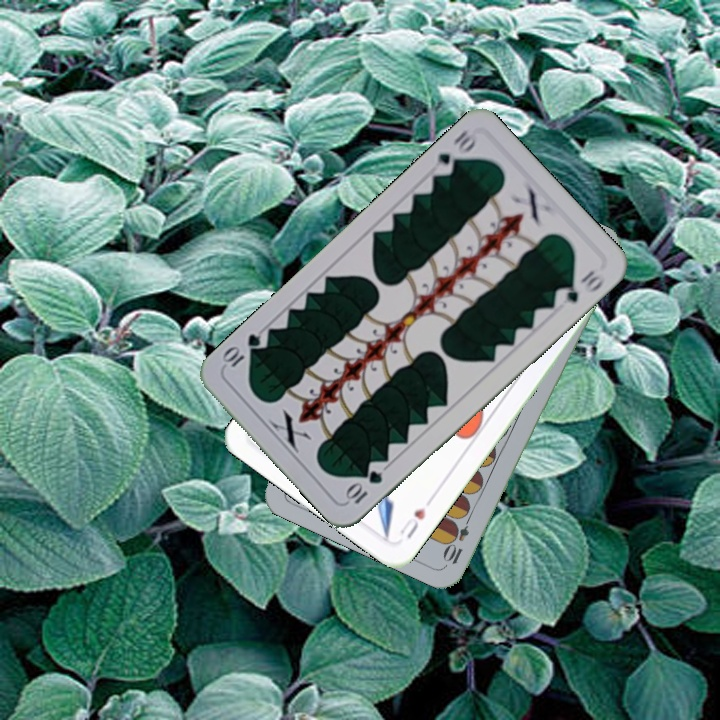E10: (441, 509, 475, 567)
G10: (433, 125, 481, 179), (342, 466, 386, 507)
HU: (395, 494, 435, 541)
